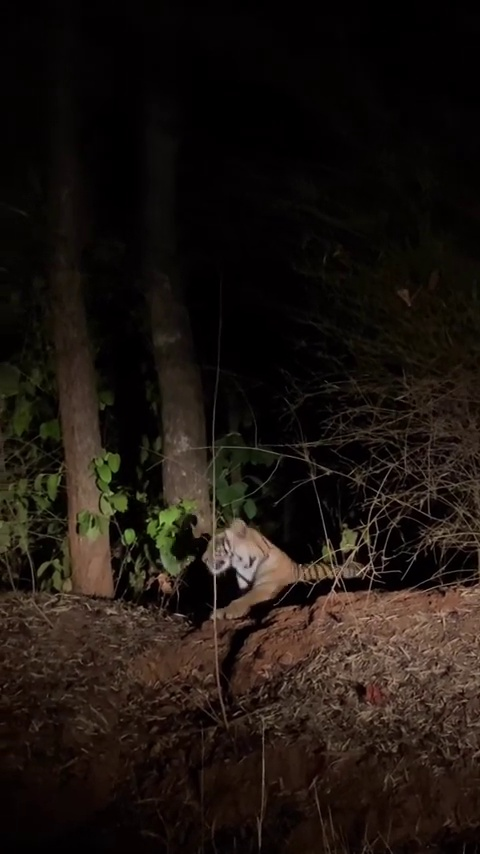Tiger: (200, 517, 371, 621)
